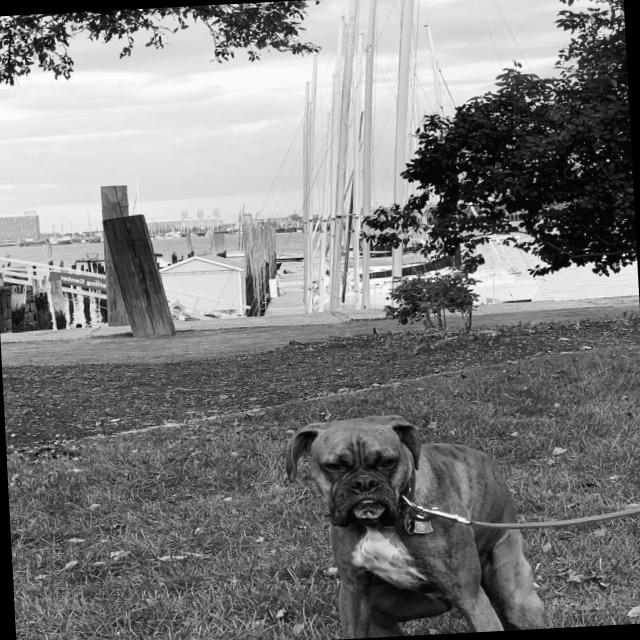squatting: (266, 396, 561, 640)
